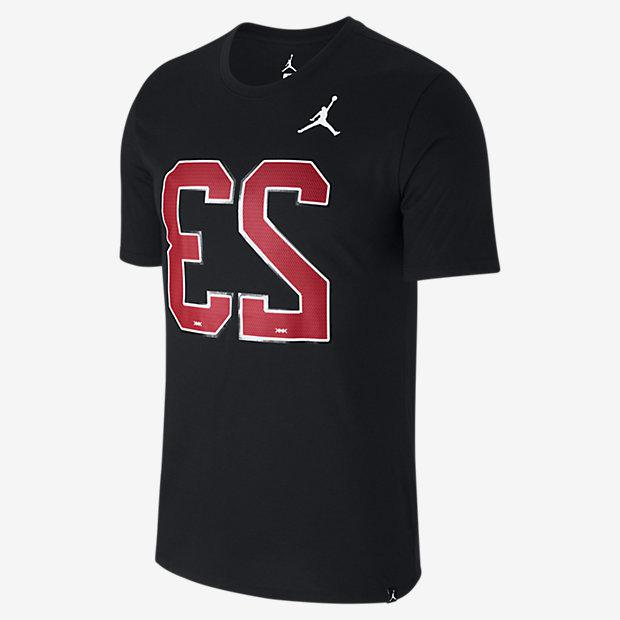teeshirt: (100, 12, 508, 620)
